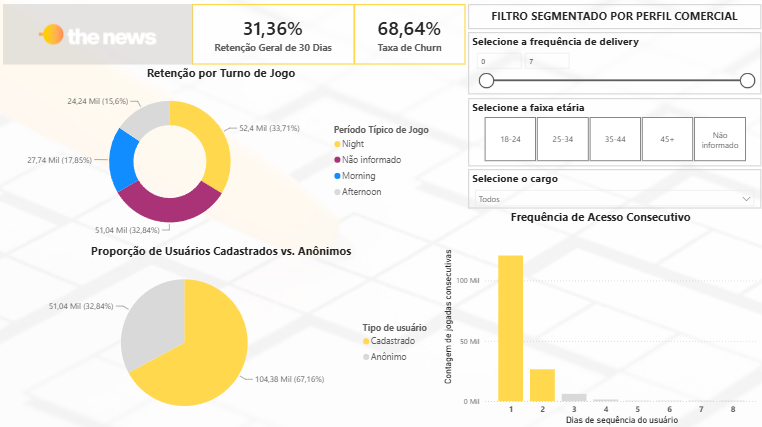

The dashboard page shown, as its layout file describes it:
{"tool":"powerbi","page":{"name":"painel_retencao_crescimento","canvas":[1280,720],"ordinal":1},"visuals":[{"type":"donutChart","title":"Retenção por Turno de Jogo","fields":{"Y":["CountNonNull(base_palavritas_unificada.active_d30)"],"Category":["base_palavritas_unificada.typical_play_time"]},"box":[8.8,108.3,727.3,297.1],"z":1000},{"type":"clusteredColumnChart","title":"Frequência de Acesso Consecutivo","fields":{"Category":["base_palavritas_unificada.streak_day"],"Y":["CountNonNull(base_palavritas_unificada.played_next_day)"]},"box":[736.1,348.3,535.6,364.4],"z":2000},{"type":"pieChart","title":"Proporção de Usuários Cadastrados vs. Anônimos","fields":{"Category":["base_palavritas_unificada.Tipo_Usuario"],"Y":["CountNonNull(base_palavritas_unificada.Tipo_Usuario)"]},"box":[8.8,405.4,727.3,307.3],"z":4000},{"type":"slicer","title":"Selecione a faixa etária","fields":{"Values":["base_palavritas_unificada.age_range"]},"box":[782.9,163.9,488.8,114.1],"z":5000},{"type":"slicer","title":"Selecione o cargo","fields":{"Values":["base_palavritas_unificada.job_role"]},"box":[782.9,282.4,488.8,65.9],"z":6000},{"type":"slicer","title":"Selecione a frequência de delivery","fields":{"Values":["base_palavritas_unificada.food_delivery_freq_week"]},"box":[782.9,54.1,488.8,103.9],"z":7000},{"type":"textbox","box":[782.9,7.3,488.8,42.4],"z":8000},{"type":"cardVisual","fields":{"Data":["base_palavritas_unificada.Taxa_Churn"]},"box":[594.1,7.3,185.9,101],"z":8500},{"type":"cardVisual","fields":{"Data":["base_palavritas_unificada.Taxa_Retencao_30D"]},"box":[323.4,7.3,270.7,101],"z":9000},{"type":"image","box":[8.8,7.3,316.1,101],"z":9001}]}

Visuals, with their boxes in screenshot pixels (x1, y1, x2, y2), scaled from the page's 1280x720 canvas onto the 762x427 screenshot:
"Retenção por Turno de Jogo" donutChart: {"x1": 5, "y1": 64, "x2": 438, "y2": 240}
"Frequência de Acesso Consecutivo" clusteredColumnChart: {"x1": 438, "y1": 207, "x2": 757, "y2": 423}
"Proporção de Usuários Cadastrados vs. Anônimos" pieChart: {"x1": 5, "y1": 240, "x2": 438, "y2": 423}
"Selecione a faixa etária" slicer: {"x1": 466, "y1": 97, "x2": 757, "y2": 165}
"Selecione o cargo" slicer: {"x1": 466, "y1": 167, "x2": 757, "y2": 207}
"Selecione a frequência de delivery" slicer: {"x1": 466, "y1": 32, "x2": 757, "y2": 94}
textbox: {"x1": 466, "y1": 4, "x2": 757, "y2": 29}
cardVisual - base_palavritas_unificada.Taxa_Churn: {"x1": 354, "y1": 4, "x2": 464, "y2": 64}
cardVisual - base_palavritas_unificada.Taxa_Retencao_30D: {"x1": 193, "y1": 4, "x2": 354, "y2": 64}
image: {"x1": 5, "y1": 4, "x2": 193, "y2": 64}
